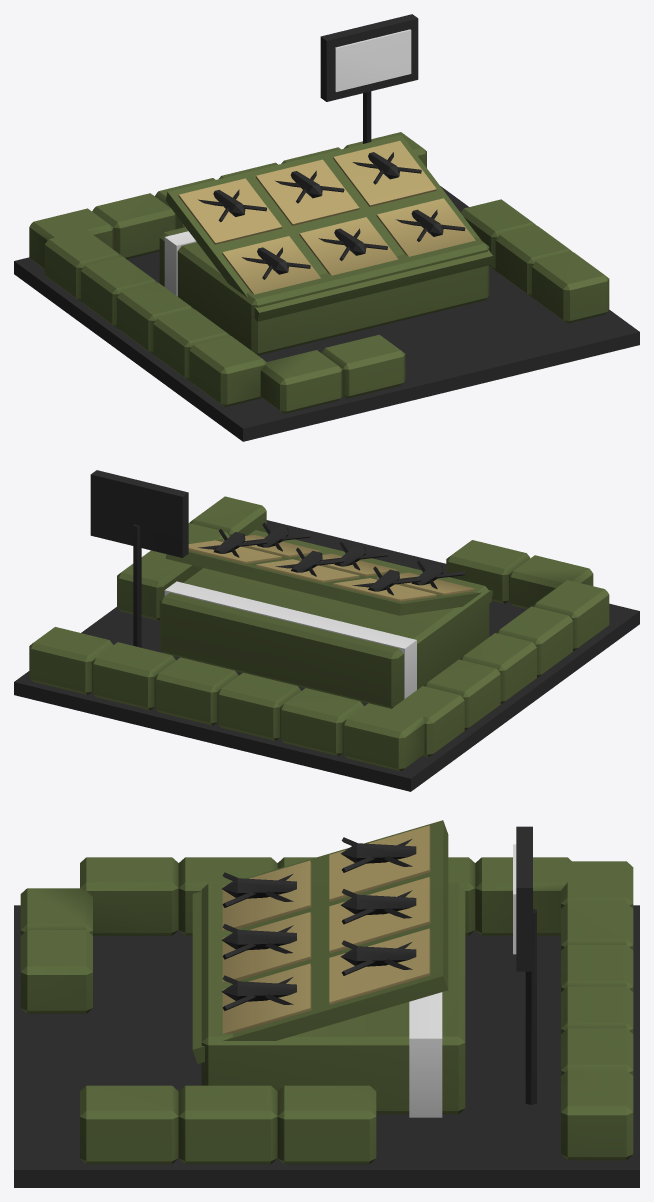
The model's file is ua-sting-nest.glb.
3 views of the same model, one above another, from view 1: azimuth 30°, elevation 25°; view 2: azimuth 150°, elevation 25°; view 3: azimuth 270°, elevation 25° (orthographic). The views are drawn at different scales.
Visible parts, largest first — view 1: ua-sting-nest; view 2: ua-sting-nest; view 3: ua-sting-nest.
Boxes of the visible parts, x1=… form: ua-sting-nest: x1=14, y1=14, x2=639, y2=441; ua-sting-nest: x1=14, y1=470, x2=639, y2=791; ua-sting-nest: x1=14, y1=820, x2=639, y2=1187.
Bounding box in the file's own units: 1.9 × 0.92 × 1.9.
